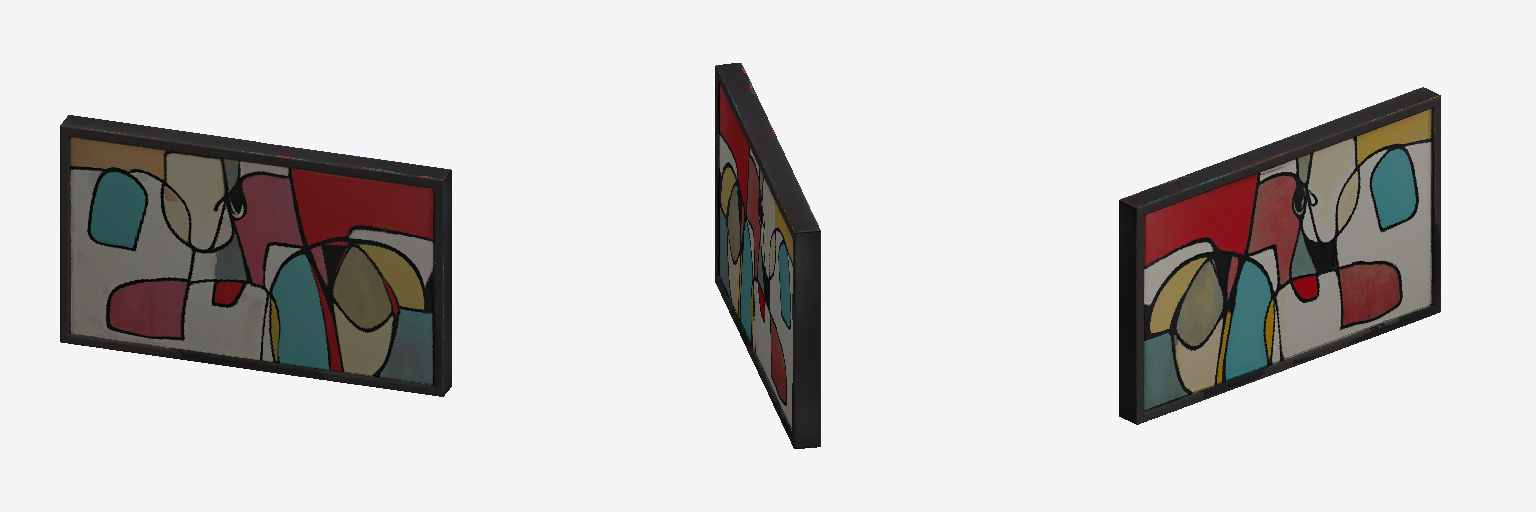
The picture shows the model from 3 angles: view 1: azimuth 30°, elevation 25°; view 2: azimuth 150°, elevation 25°; view 3: azimuth 270°, elevation 25°; orthographic projection.
Visible parts, largest first — view 1: cuadronuevo1; view 2: cuadronuevo1; view 3: cuadronuevo1.
Part boxes in pixels (x1,y1,x2,y2): cuadronuevo1: (60, 115, 451, 396); cuadronuevo1: (715, 63, 820, 448); cuadronuevo1: (1119, 87, 1440, 424).
Bounding box in the file's own units: 11.03 × 9.23 × 12.37.
Materials: 1 (1 with a texture image).